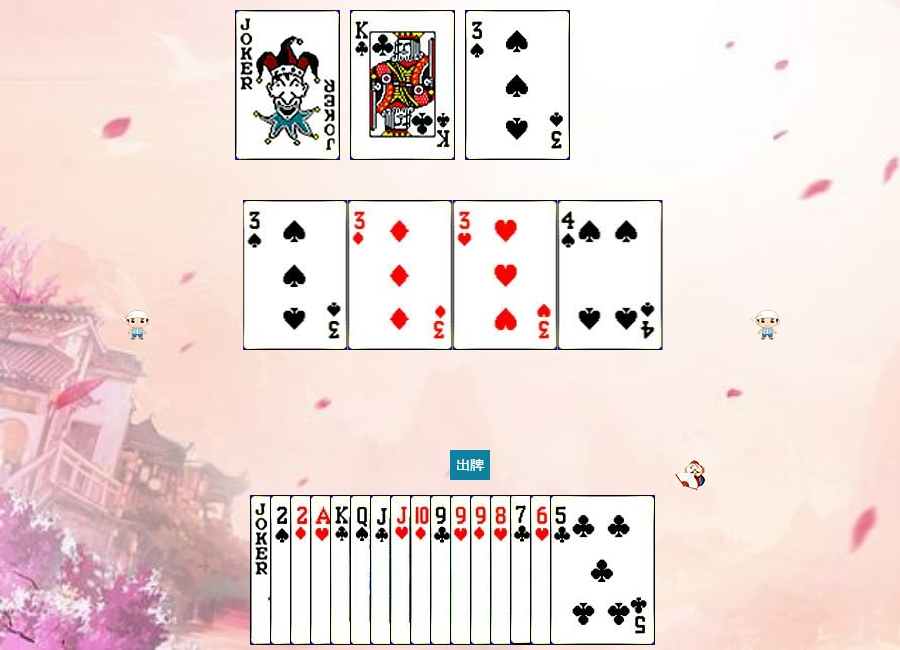10~1: (410, 495, 515, 645)
11~2: (370, 495, 475, 645)
11~3: (390, 495, 495, 645)
12~4: (350, 495, 455, 645)
13~2: (350, 10, 455, 160), (330, 495, 435, 645)
14~3: (310, 495, 415, 645)
15~1: (290, 495, 395, 645)
15~4: (270, 495, 375, 645)
17~3: (235, 10, 340, 160), (250, 495, 355, 645)
3~1: (348, 200, 453, 350)
3~3: (453, 200, 558, 350)
3~4: (465, 10, 570, 160), (243, 200, 348, 350)
4~4: (558, 200, 663, 350)
5~2: (550, 495, 655, 645)
6~3: (530, 495, 635, 645)
7~2: (510, 495, 615, 645)
8~3: (490, 495, 595, 645)
9~1: (470, 495, 575, 645)
9~2: (430, 495, 535, 645)
9~3: (450, 495, 555, 645)
